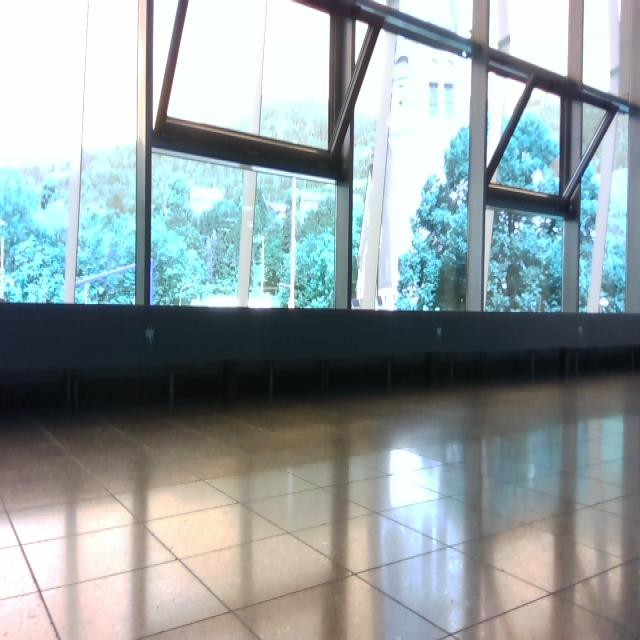door: (2, 1, 639, 638)
light bulb: (188, 185, 224, 214), (263, 269, 280, 296), (531, 169, 543, 186), (600, 297, 609, 308)
tiled floor: (2, 372, 639, 638)
window: (1, 1, 639, 316)
